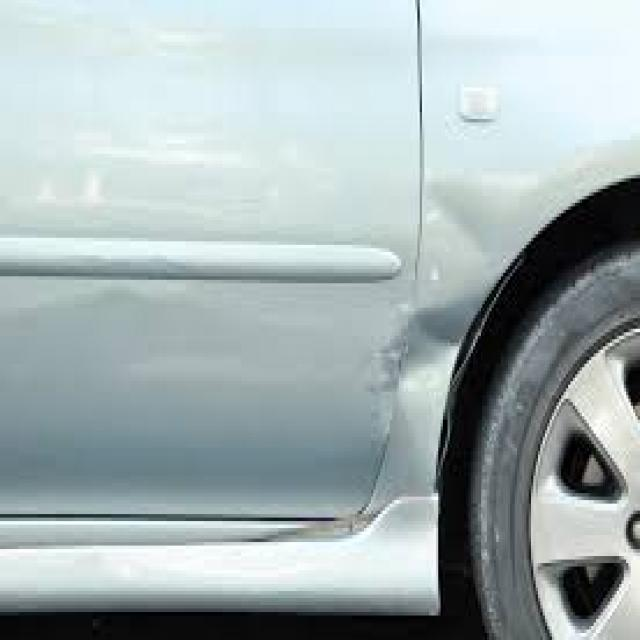minor: (308, 147, 533, 607)
